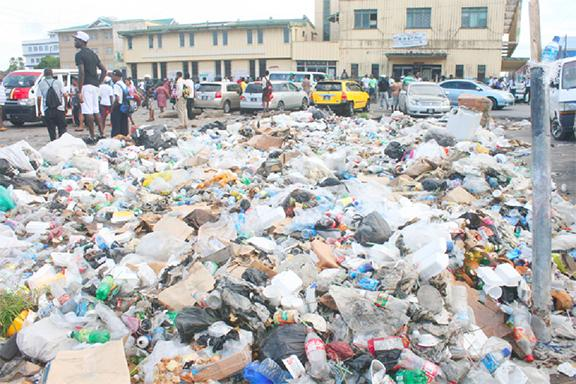garbage: (0, 106, 576, 384)
